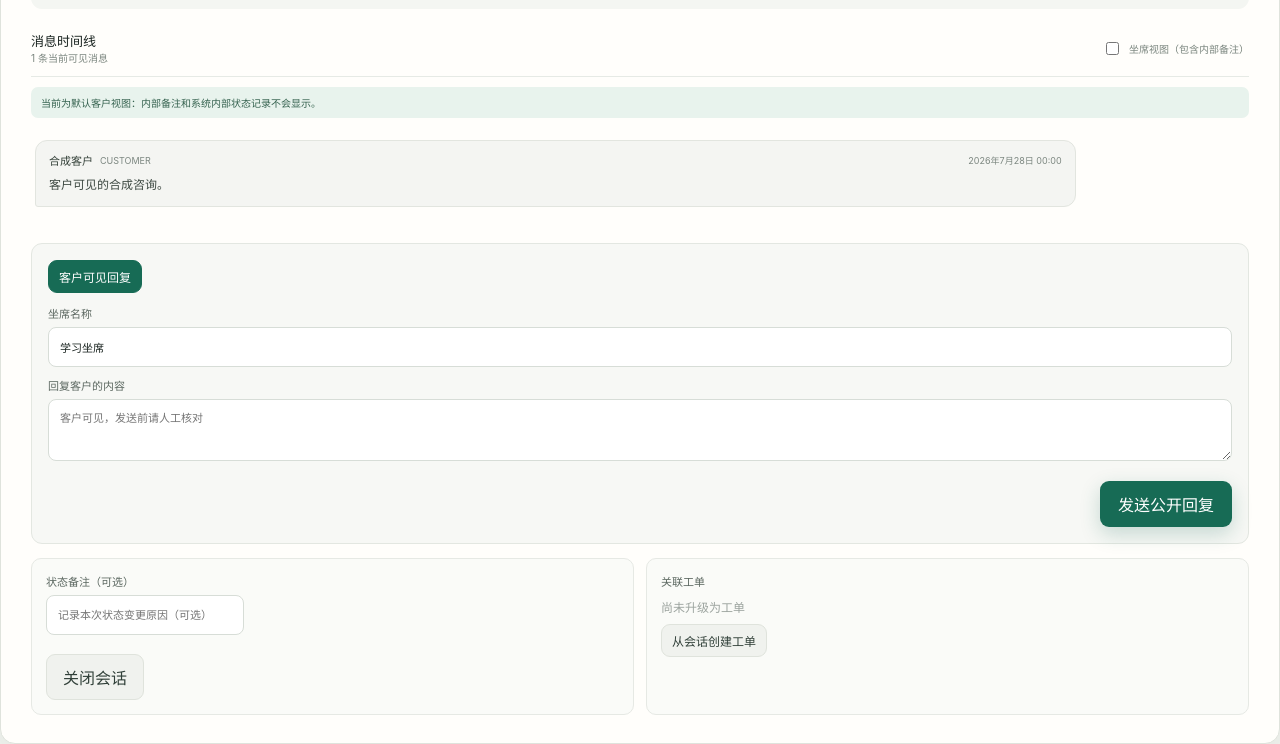
Test: 会话详情面板 › 关联工单成功信号会关闭创建表单
(page scrolled)
Click the button with class "compact" showing "从会话创建工单". click: (714, 640)
box: left=661, top=624, right=767, bottom=657
(page scrolled)
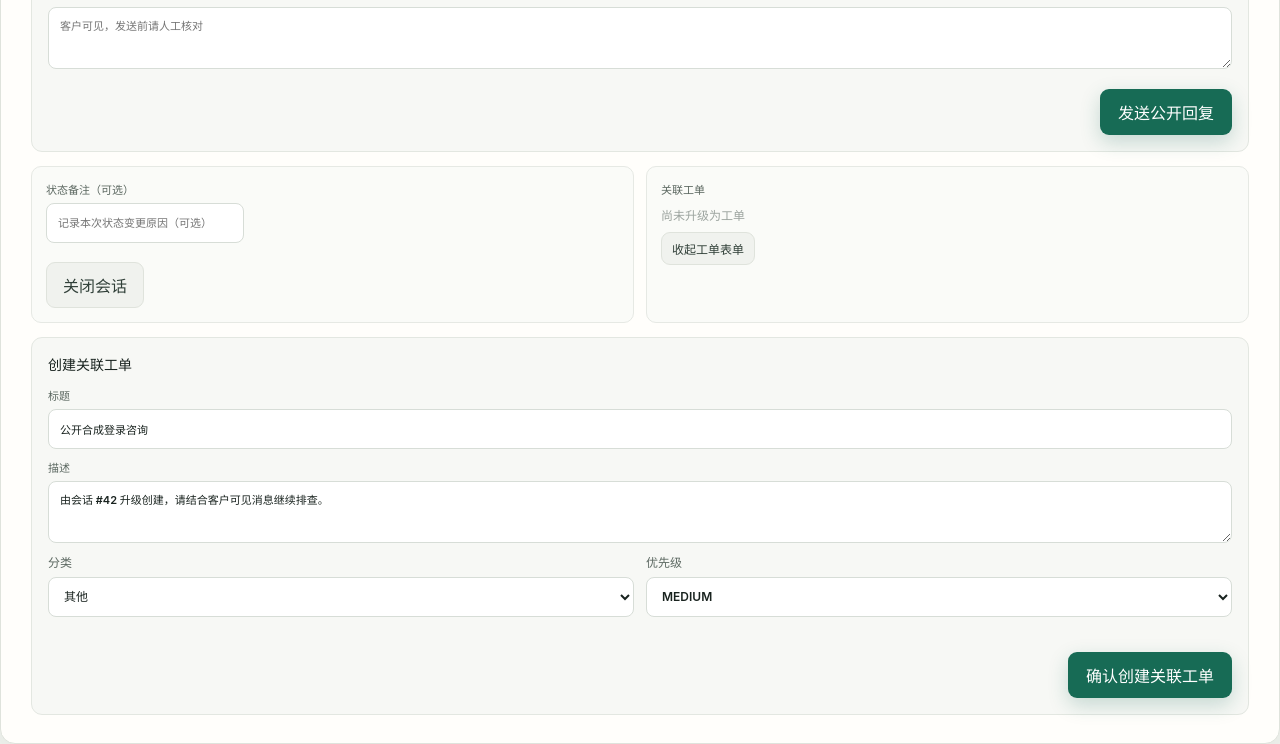
Expected: the form with class "linked-ticket-form" is shown, left=31, top=337, right=1249, bottom=715
